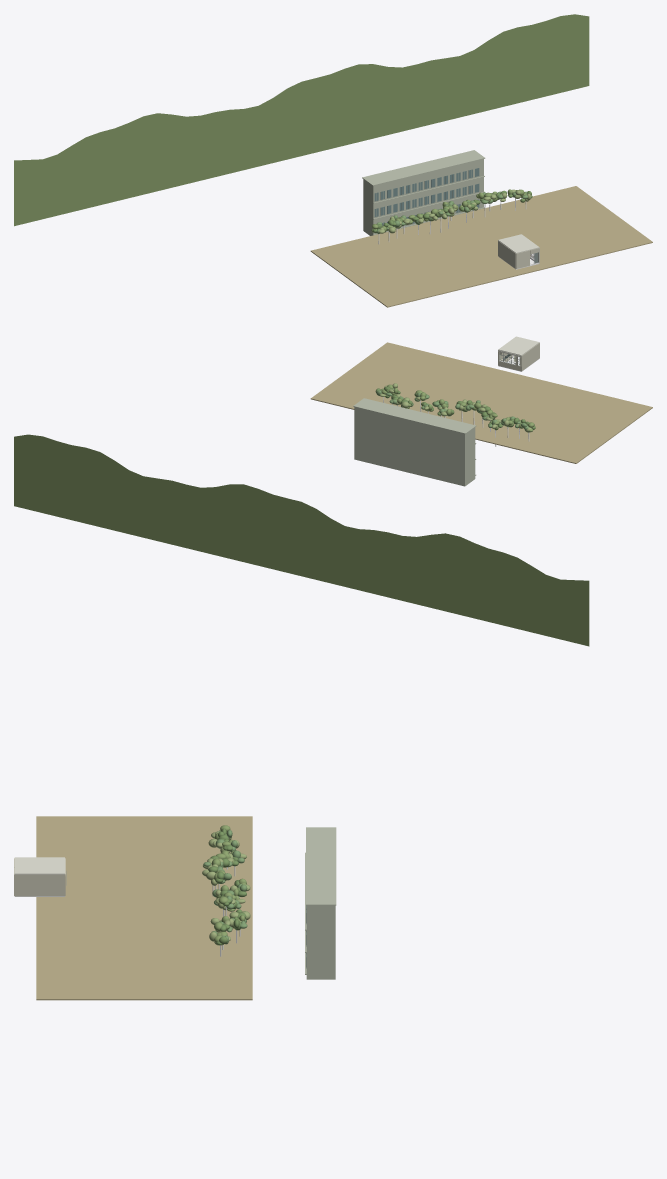
Rendered from club_v2_visual.glb.
The picture shows the model from 3 angles, top to bottom: view 1: azimuth 30°, elevation 25°; view 2: azimuth 150°, elevation 25°; view 3: azimuth 270°, elevation 25°; orthographic projection. The views are drawn at different scales.
Parts seen in each view (by area): view 1: VIS_club_CLUB | canopy tone 1, VIS_club_SCH | courtyard sand, VIS_club_CLUB | distant pale campus facade, VIS_club_CLUB | distant muted window bands, VIS_club_CLUB | canopy tone 2, VIS_club_SCH | warm offwhite ceiling, VIS_club_CLUB | canopy tone 3, VIS_club_CLUB | canopy tone 0; view 2: VIS_club_CLUB | canopy tone 1, VIS_club_SCH | courtyard sand, VIS_club_CLUB | distant pale campus facade, VIS_club_CLUB | canopy tone 3, VIS_club_SCH | old ivory plaster, VIS_club_CLUB | canopy tone 2, VIS_club_SCH | warm offwhite ceiling, VIS_club_CLUB | canopy tone 0; view 3: VIS_club_SCH | courtyard sand, VIS_club_CLUB | distant pale campus facade, VIS_club_SCH | old ivory plaster, VIS_club_CLUB | canopy tone 2, VIS_club_SCH | warm offwhite ceiling, VIS_club_CLUB | canopy tone 0, VIS_club_CLUB | canopy tone 1, VIS_club_CLUB | canopy tone 3.
Part boxes in pixels (bbox=[...]): VIS_club_CLUB | canopy tone 1: bbox=[14, 14, 589, 232]; VIS_club_SCH | courtyard sand: bbox=[310, 186, 652, 307]; VIS_club_CLUB | distant pale campus facade: bbox=[362, 150, 485, 235]; VIS_club_CLUB | distant muted window bands: bbox=[374, 168, 479, 226]; VIS_club_CLUB | canopy tone 2: bbox=[375, 189, 530, 233]; VIS_club_SCH | warm offwhite ceiling: bbox=[498, 234, 539, 253]; VIS_club_CLUB | canopy tone 3: bbox=[376, 191, 527, 233]; VIS_club_CLUB | canopy tone 0: bbox=[372, 190, 532, 232]; VIS_club_CLUB | canopy tone 1: bbox=[14, 384, 589, 646]; VIS_club_SCH | courtyard sand: bbox=[310, 342, 652, 463]; VIS_club_CLUB | distant pale campus facade: bbox=[353, 398, 476, 486]; VIS_club_CLUB | canopy tone 3: bbox=[376, 388, 534, 429]; VIS_club_SCH | old ivory plaster: bbox=[498, 343, 539, 371]; VIS_club_CLUB | canopy tone 2: bbox=[379, 383, 534, 432]; VIS_club_SCH | warm offwhite ceiling: bbox=[498, 336, 539, 357]; VIS_club_CLUB | canopy tone 0: bbox=[375, 386, 535, 429]; VIS_club_SCH | courtyard sand: bbox=[36, 816, 252, 1000]; VIS_club_CLUB | distant pale campus facade: bbox=[305, 827, 336, 979]; VIS_club_SCH | old ivory plaster: bbox=[14, 874, 65, 896]; VIS_club_CLUB | canopy tone 2: bbox=[202, 832, 250, 945]; VIS_club_SCH | warm offwhite ceiling: bbox=[14, 857, 65, 876]; VIS_club_CLUB | canopy tone 0: bbox=[208, 828, 246, 945]; VIS_club_CLUB | canopy tone 1: bbox=[212, 825, 246, 942]; VIS_club_CLUB | canopy tone 3: bbox=[203, 830, 247, 944].
Bounding box in the file's own units: 130 × 16.93 × 88.58.
